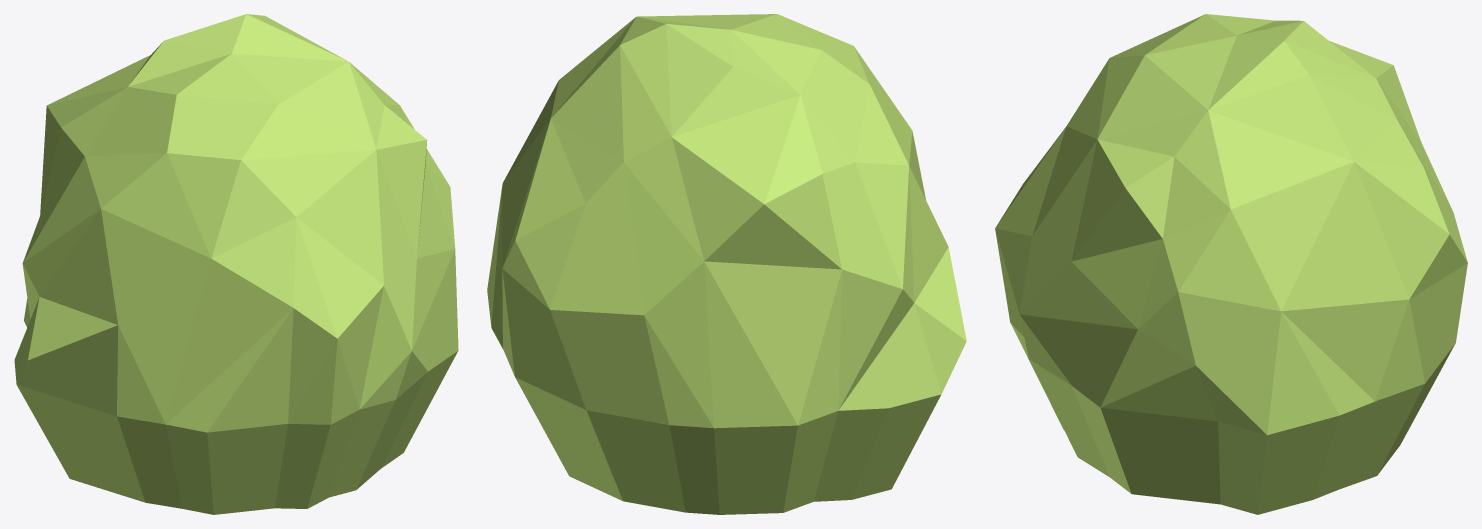
File: Bush_b_m_01.fbx
3 views of the same model, side by side, from view 1: azimuth 30°, elevation 25°; view 2: azimuth 150°, elevation 25°; view 3: azimuth 270°, elevation 25° (orthographic). The views are drawn at different scales.
Visible parts, largest first — view 1: Bush_b_m_01; view 2: Bush_b_m_01; view 3: Bush_b_m_01.
Part boxes in pixels (box(x1,y1,x2,y2)): Bush_b_m_01: box(14, 14, 458, 514); Bush_b_m_01: box(487, 14, 966, 514); Bush_b_m_01: box(995, 14, 1467, 514).
Bounding box in the file's own units: 2.07 × 1.87 × 1.94.
